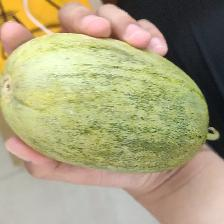gua: (9, 32, 217, 177)
